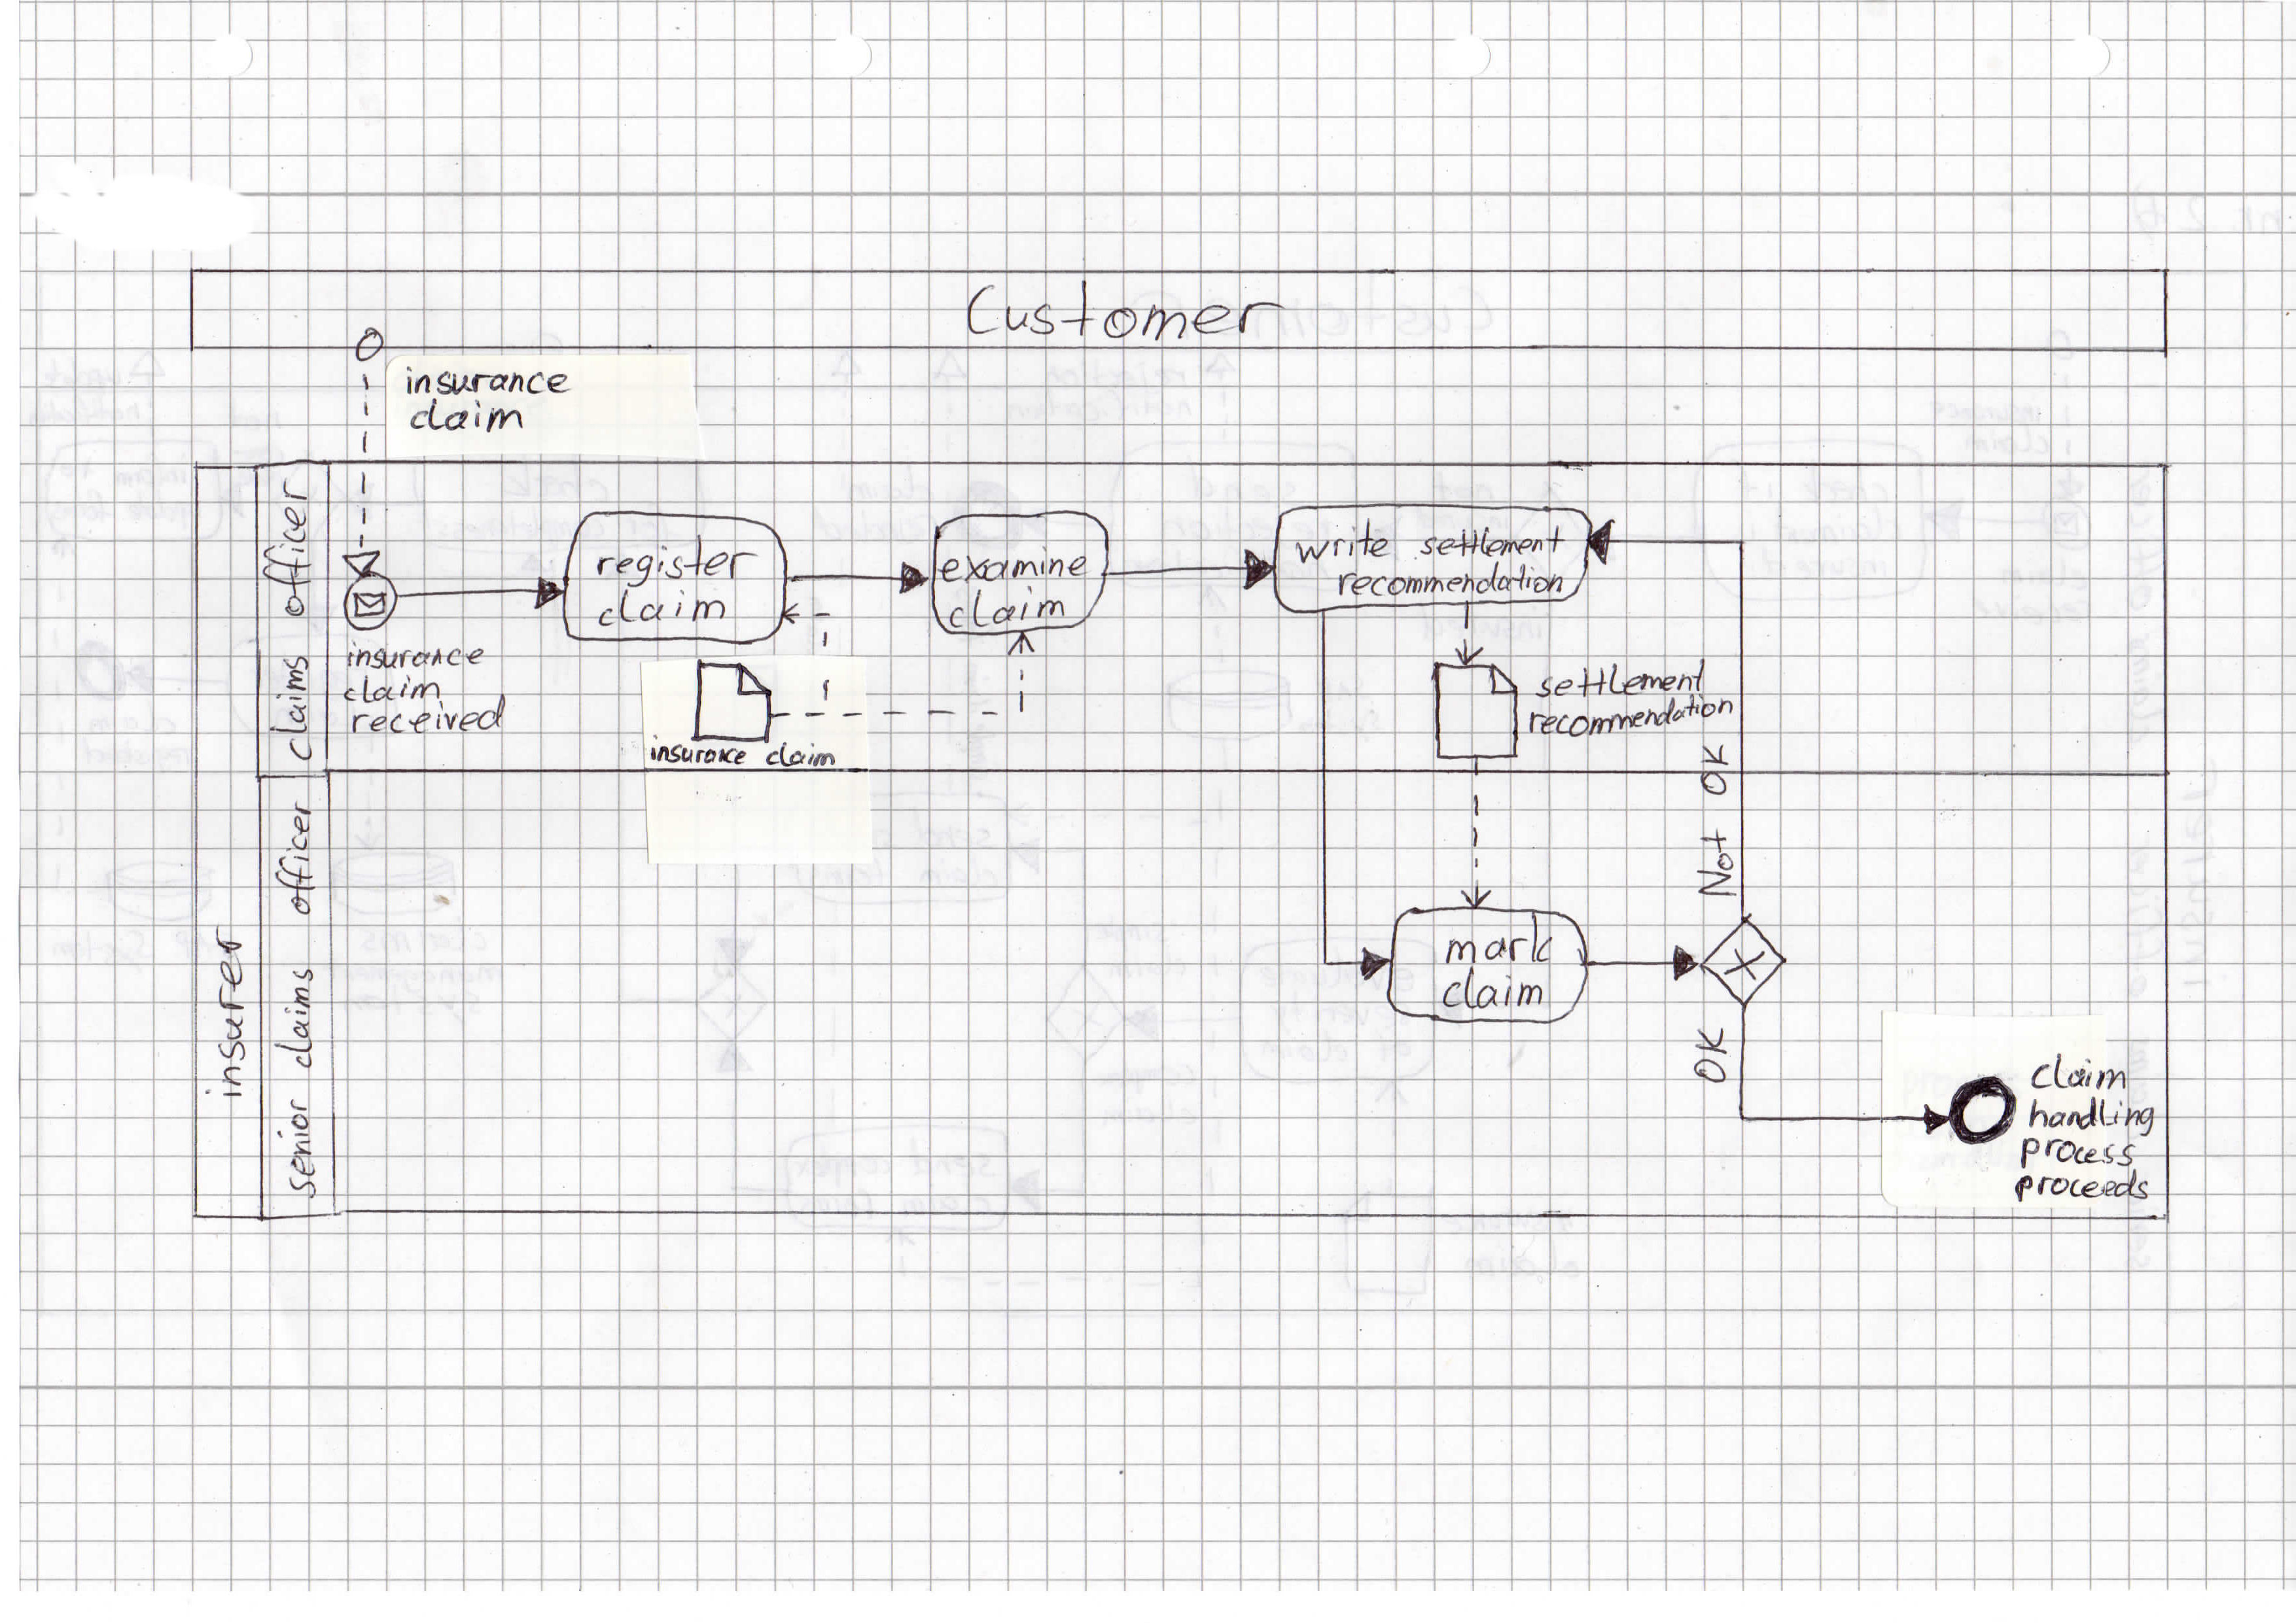Customer: (957, 272, 1295, 346)
Not: (1690, 820, 1743, 905)
OK: (1688, 1021, 1736, 1091), (1695, 738, 1734, 799)
claim: (942, 581, 1073, 634), (592, 581, 733, 631), (1437, 961, 1549, 1015), (404, 392, 531, 439), (2024, 1047, 2133, 1098), (337, 669, 448, 710), (759, 738, 840, 771)
claims: (264, 650, 318, 766), (269, 963, 318, 1075)
examine: (935, 541, 1096, 590)
handling: (2024, 1093, 2161, 1142)
insurance: (399, 360, 578, 402), (341, 634, 490, 674), (646, 727, 752, 769)
insurer: (197, 917, 255, 1105)
mark: (1439, 903, 1560, 970)
officer: (256, 469, 318, 624), (269, 794, 321, 920)
proceeds: (2008, 1163, 2154, 1210)
process: (2015, 1131, 2141, 1175)
received: (346, 689, 511, 741)
recommendation: (1521, 687, 1739, 743), (1332, 555, 1569, 601)
register: (588, 529, 764, 594)
senior: (271, 1093, 321, 1203)
settlement: (1528, 652, 1711, 703), (1414, 520, 1570, 562)
write: (1288, 513, 1397, 571)
